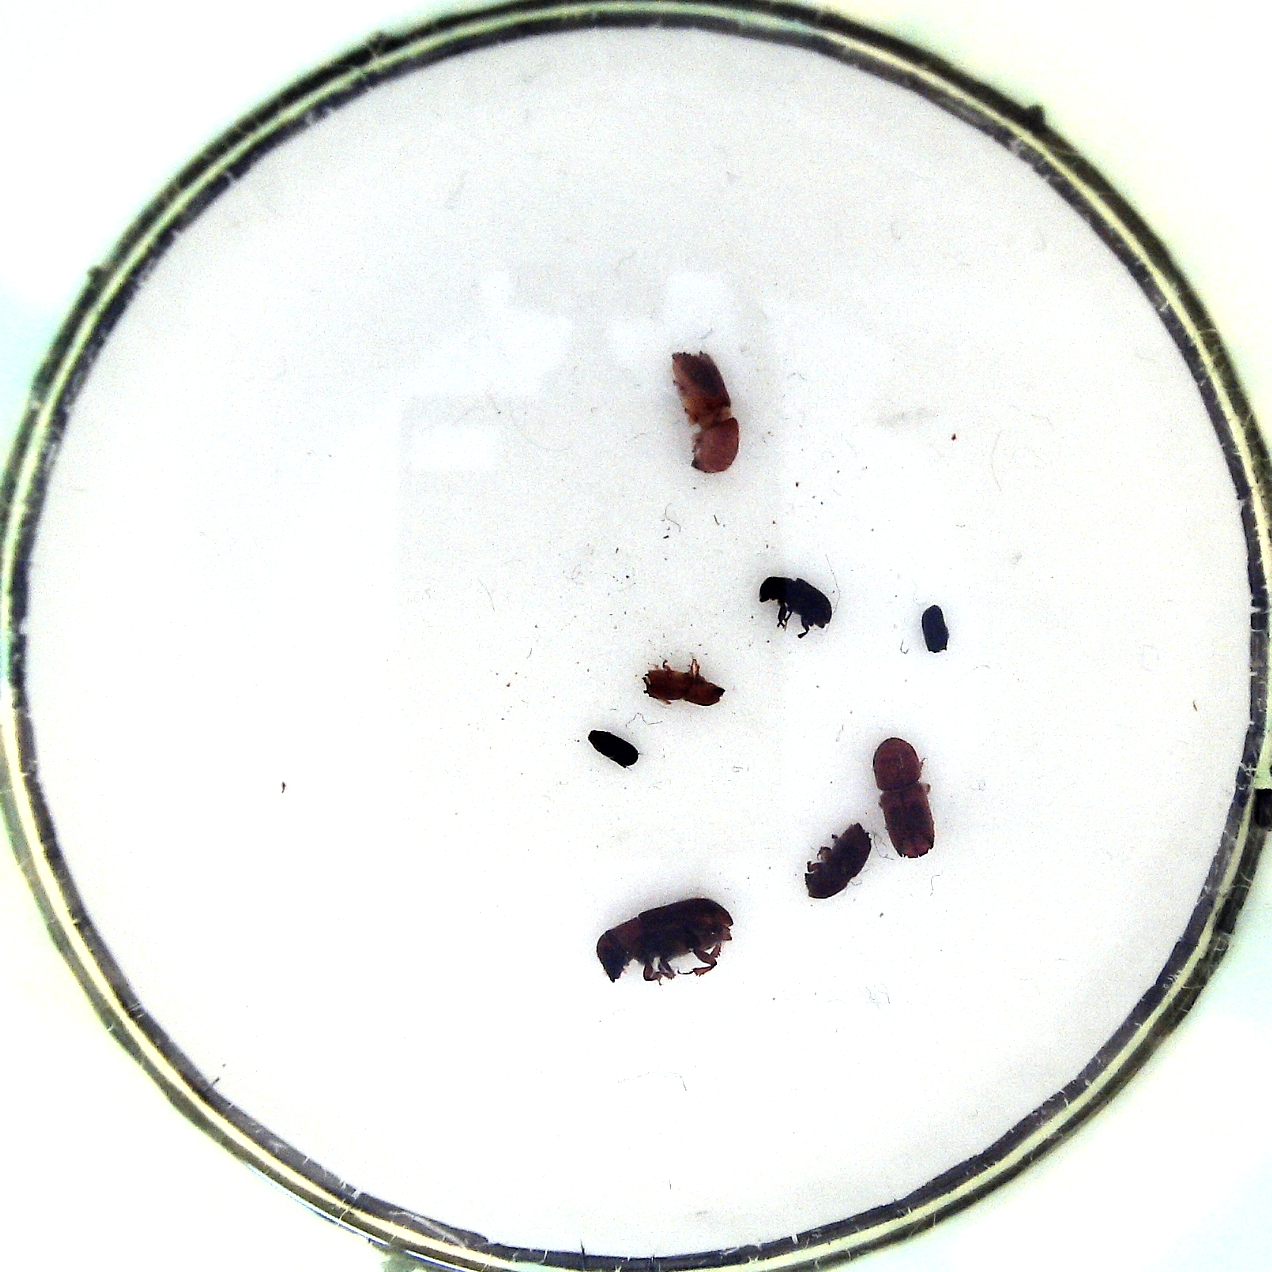Boerner: (665, 348, 744, 479), (872, 735, 939, 861)
Leconte: (591, 892, 739, 999)
Linnaeus: (794, 814, 875, 904)
acuminatus: (639, 655, 722, 718)
armandi: (757, 570, 836, 639)
coleoptera: (588, 725, 644, 773), (918, 598, 957, 658)
